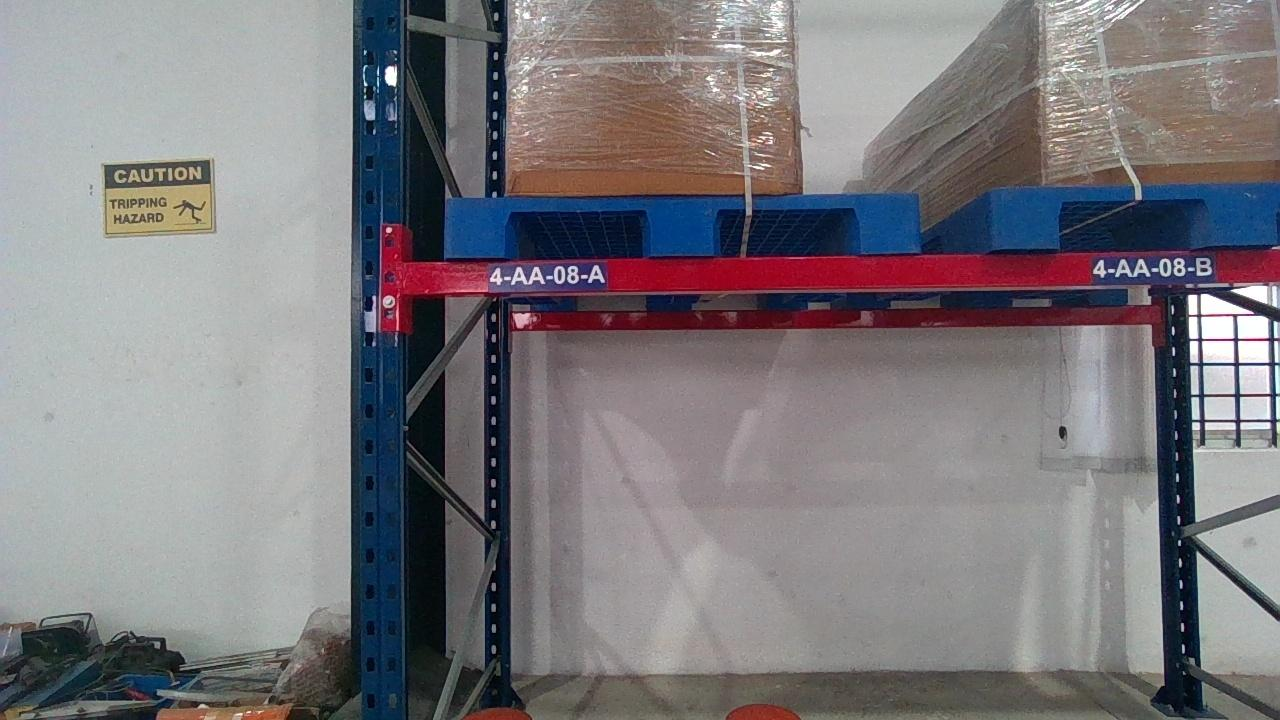h_rack: (400, 249, 1279, 292)
small_pallet: (443, 192, 916, 252), (990, 182, 1278, 245)
